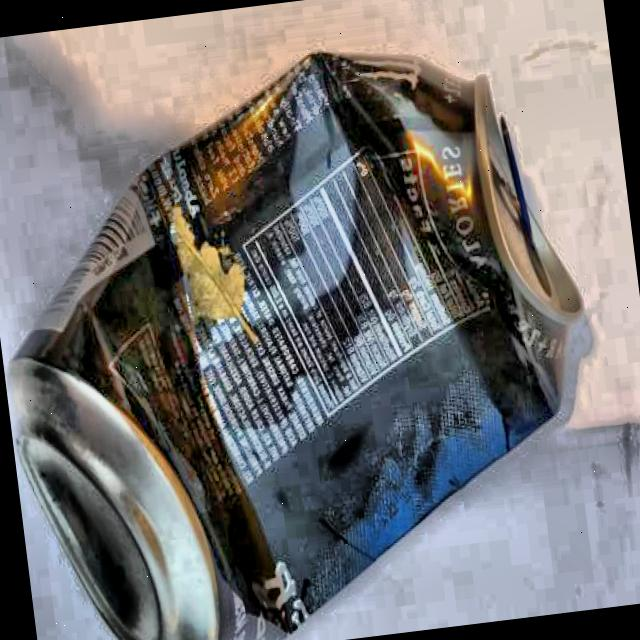metal: (0, 19, 619, 640)
